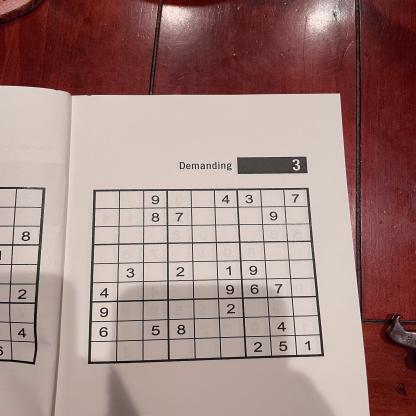sudoku: (82, 182, 330, 372)
